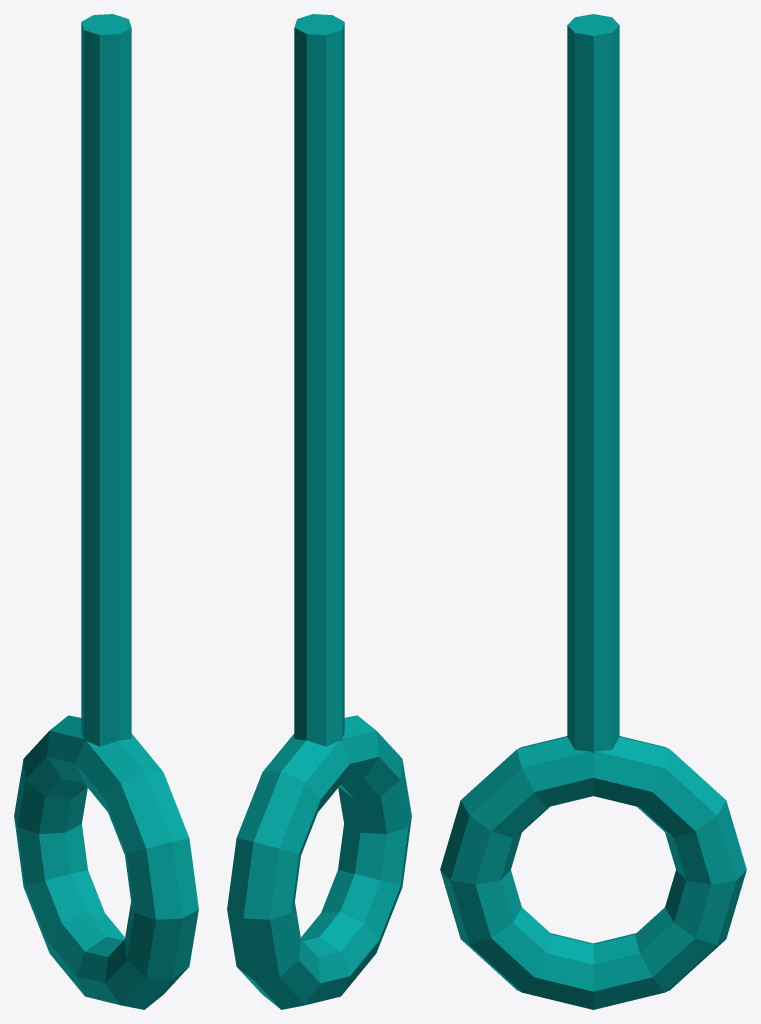
Rendered from _ANM_FanSwitch.fbx.
The picture shows the model from 3 angles, left to right: view 1: azimuth 30°, elevation 25°; view 2: azimuth 150°, elevation 25°; view 3: azimuth 270°, elevation 25°; orthographic projection.
Visible parts, largest first — view 1: ANM_FanSwitch; view 2: ANM_FanSwitch; view 3: ANM_FanSwitch.
Boxes of the visible parts, x1,y1,x2,y2 form: ANM_FanSwitch: (14,14,198,1009); ANM_FanSwitch: (227,14,411,1009); ANM_FanSwitch: (440,14,746,1009).
Size of the model in its own units: 0.6 by 9.2 by 2.6.
